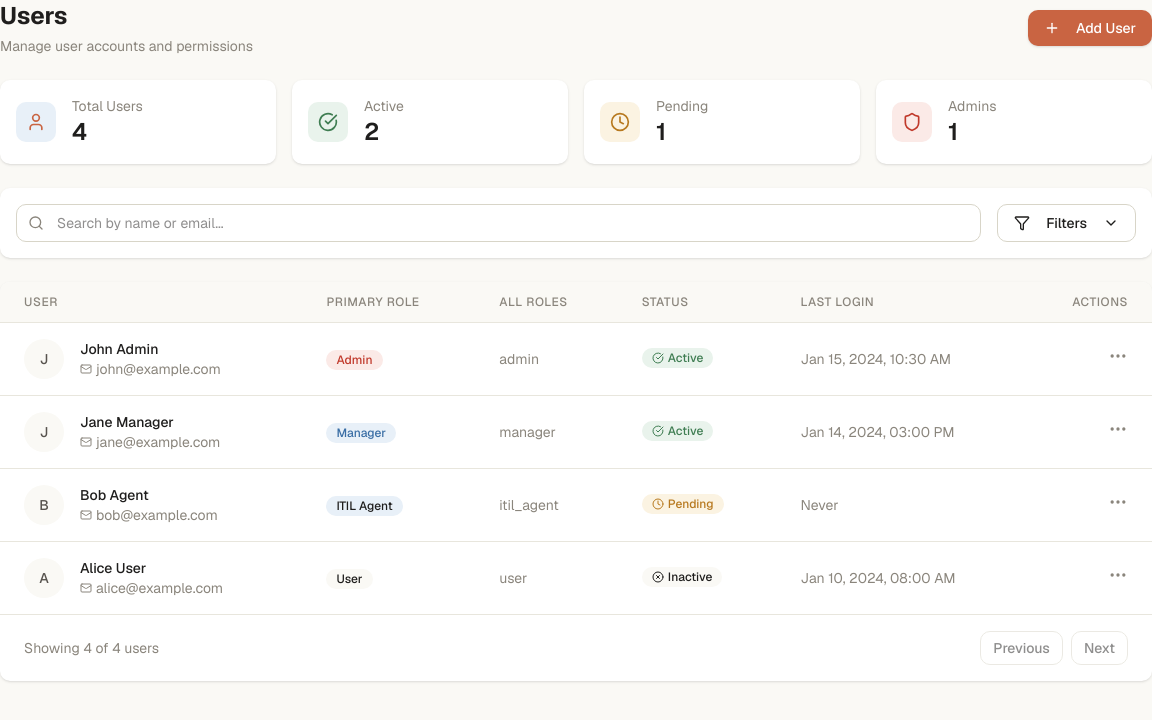
Test: UsersPage › Filter Functionality › filters by role
This screenshot has width=1152, height=720.
Check: the text "John Admin" is shown, box [80,340,158,358]
Click the button "Filters" at (1067, 223), box [997,204,1136,242]
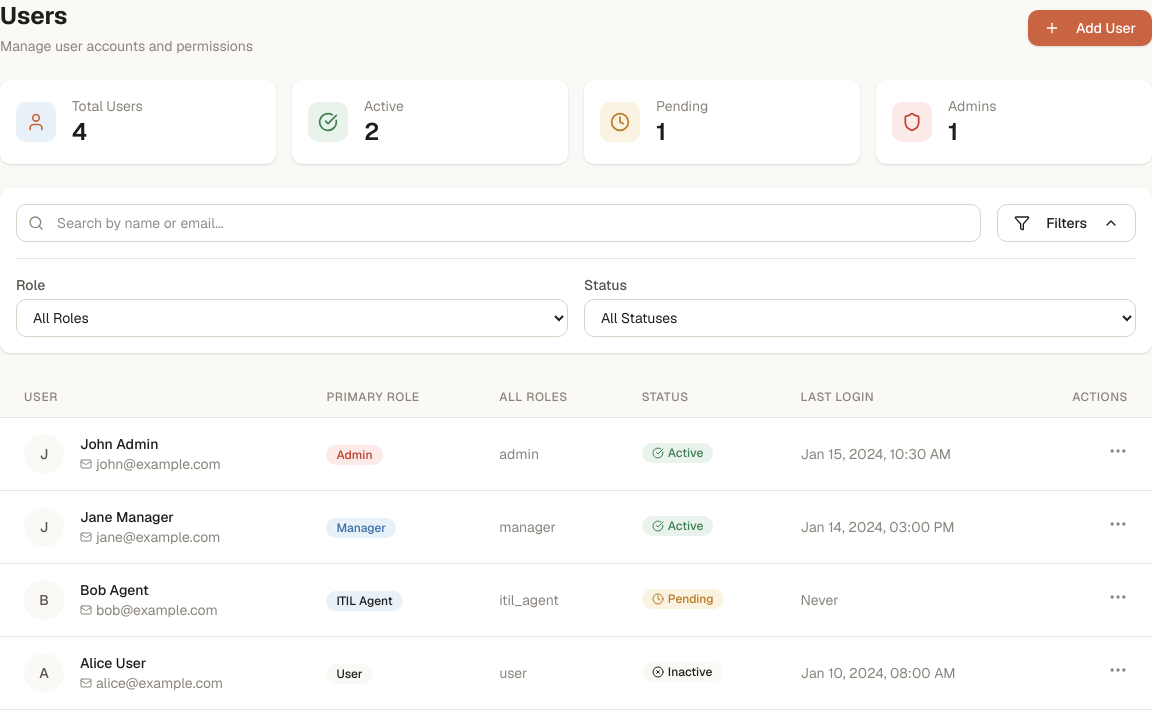
// First select should be the Role filter
Select "Admin" in the 1st dropdown at (292, 318), box [16,299,568,337]
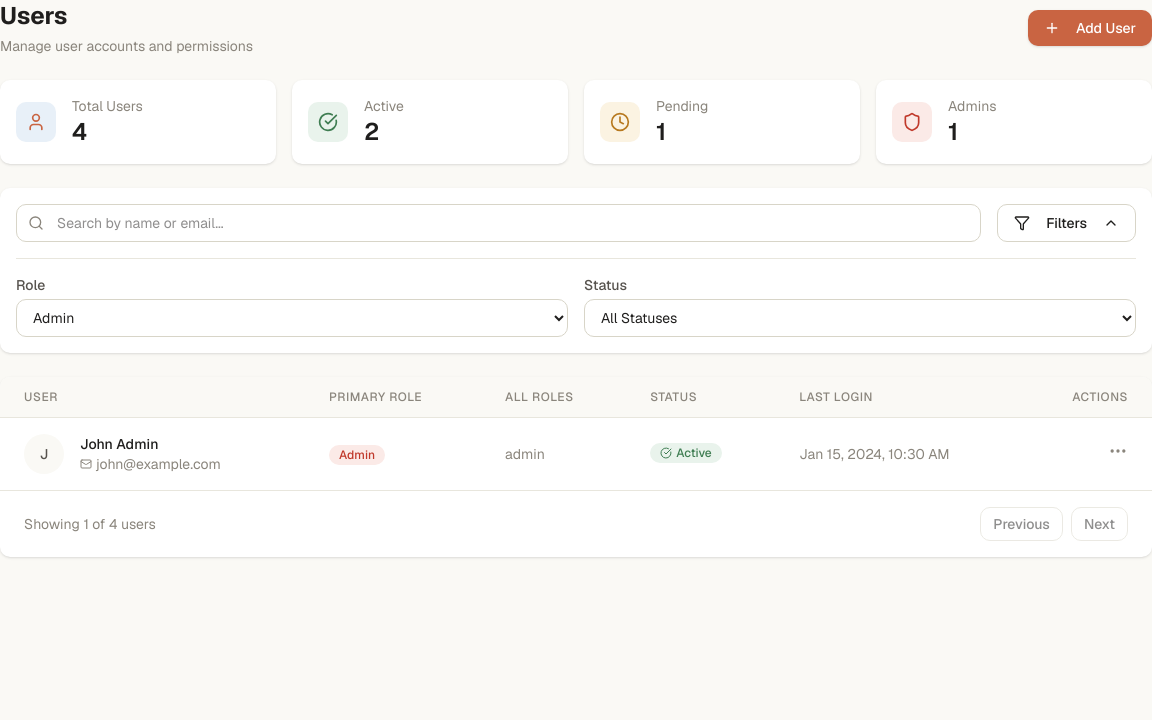
Check: the text "John Admin" is shown, box [80,435,158,453]
Check: the text "Jane Manager" is gone
